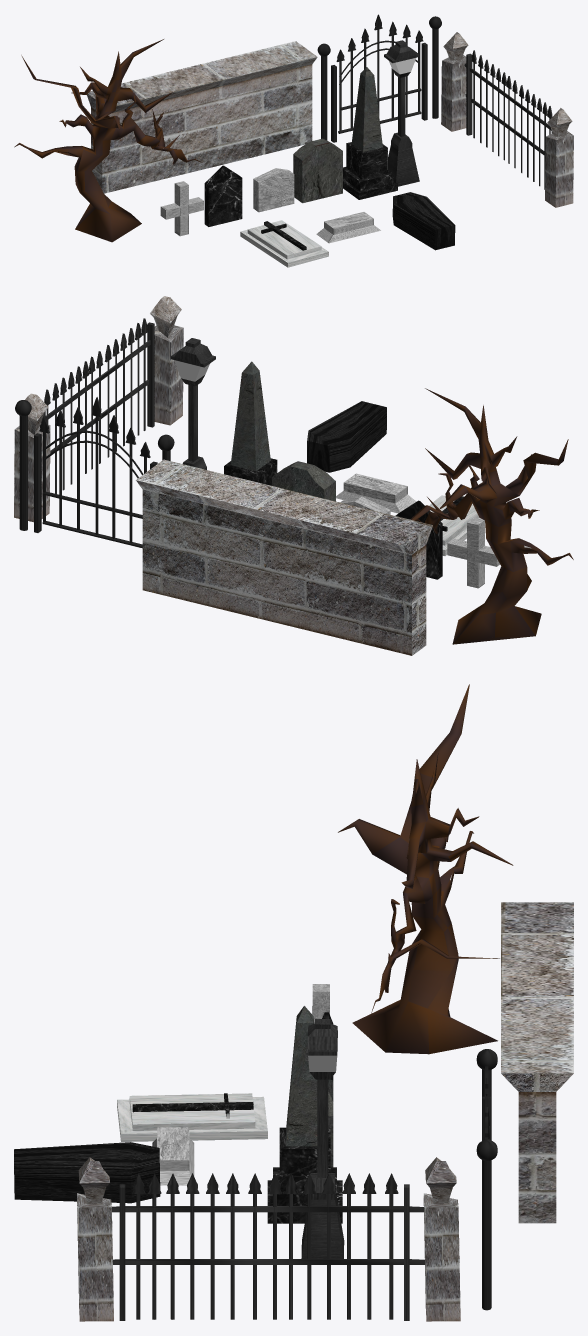
Rendered from Model2_ModularCemetery.glb.
3 views of the same model, one above another, from view 1: azimuth 30°, elevation 25°; view 2: azimuth 150°, elevation 25°; view 3: azimuth 270°, elevation 25° (orthographic). The views are drawn at different scales.
Visible parts, largest first — view 1: Walls, Tree, Cylinder, Cube.015, Cube.031, Cube, Cube.014, Cube.002, Coffin, Cube.035, Cube.001, Cube.034 (+3 smaller); view 2: Walls, Tree, Cylinder, Cube.031, Coffin, Cube.015, Cube.002, Cube.014, Cube.001, Cube.016, Cube.004, Cube (+2 smaller); view 3: Tree, Walls, Cube.031, Coffin, Cube.035, Cube.015, Cube.001, Cube.002, Cube.014, Cylinder, Cube.004.
Boxes of the visible parts, left/top/right/bottom form: Walls: left=87, top=41, right=317, bottom=193; Tree: left=14, top=39, right=202, bottom=242; Cylinder: left=317, top=14, right=441, bottom=142; Cube.015: left=343, top=67, right=397, bottom=199; Cube.031: left=464, top=50, right=552, bottom=189; Cube: left=293, top=138, right=342, bottom=203; Cube.014: left=384, top=40, right=419, bottom=186; Cube.002: left=545, top=108, right=573, bottom=207; Coffin: left=392, top=192, right=455, bottom=250; Cube.035: left=240, top=220, right=328, bottom=267; Cube.001: left=441, top=32, right=468, bottom=131; Cube.034: left=204, top=165, right=242, bottom=226; Walls: left=136, top=459, right=432, bottom=655; Tree: left=410, top=388, right=573, bottom=644; Cylinder: left=15, top=397, right=174, bottom=548; Cube.031: left=41, top=318, right=154, bottom=493; Coffin: left=307, top=401, right=386, bottom=472; Cube.015: left=224, top=361, right=277, bottom=485; Cube.002: left=150, top=296, right=183, bottom=425; Cube.014: left=171, top=338, right=215, bottom=469; Cube.001: left=14, top=393, right=50, bottom=522; Cube.016: left=447, top=517, right=499, bottom=588; Cube.004: left=336, top=473, right=416, bottom=513; Cube: left=272, top=461, right=335, bottom=501; Tree: left=338, top=684, right=513, bottom=1054; Walls: left=501, top=902, right=573, bottom=1223; Cube.031: left=112, top=1173, right=425, bottom=1320; Coffin: left=14, top=1142, right=160, bottom=1203; Cube.035: left=117, top=1093, right=267, bottom=1141; Cube.015: left=267, top=1006, right=342, bottom=1223; Cube.001: left=423, top=1157, right=460, bottom=1321; Cube.002: left=77, top=1157, right=113, bottom=1321; Cube.014: left=301, top=1019, right=344, bottom=1258; Cylinder: left=476, top=1049, right=497, bottom=1310; Cube.004: left=152, top=1127, right=194, bottom=1185.
Bounding box in the file's own units: 18.12 × 6.89 × 11.94.
Materials: 4 (3 with a texture image).
